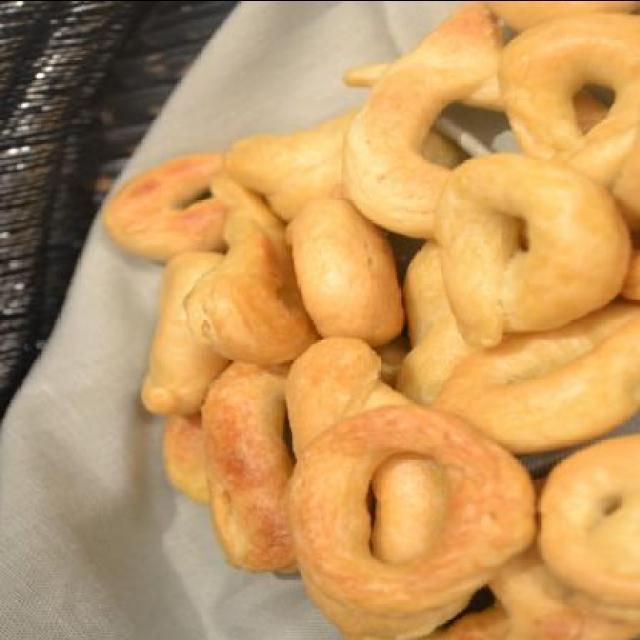Taralli: (103, 6, 640, 632)
